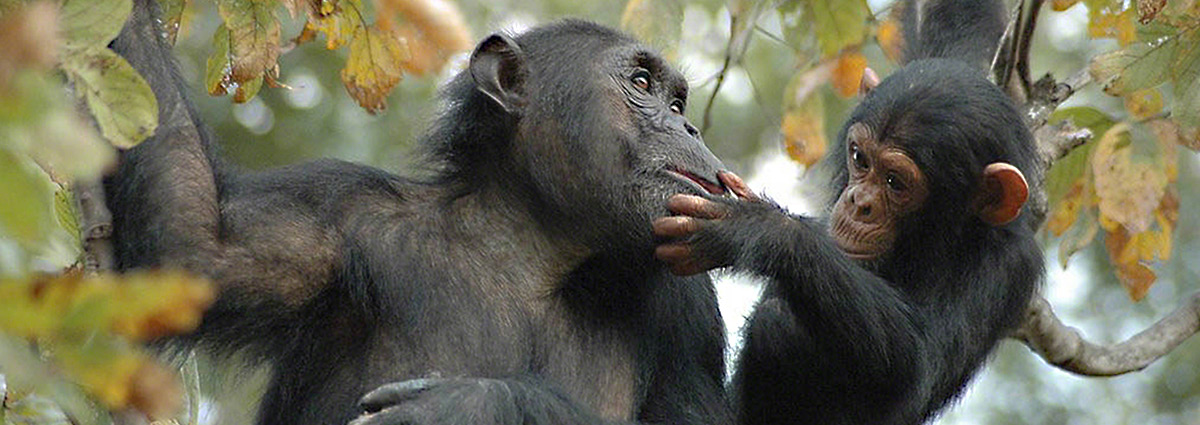Chimpanzee: (175, 15, 738, 425), (746, 38, 1044, 421)
